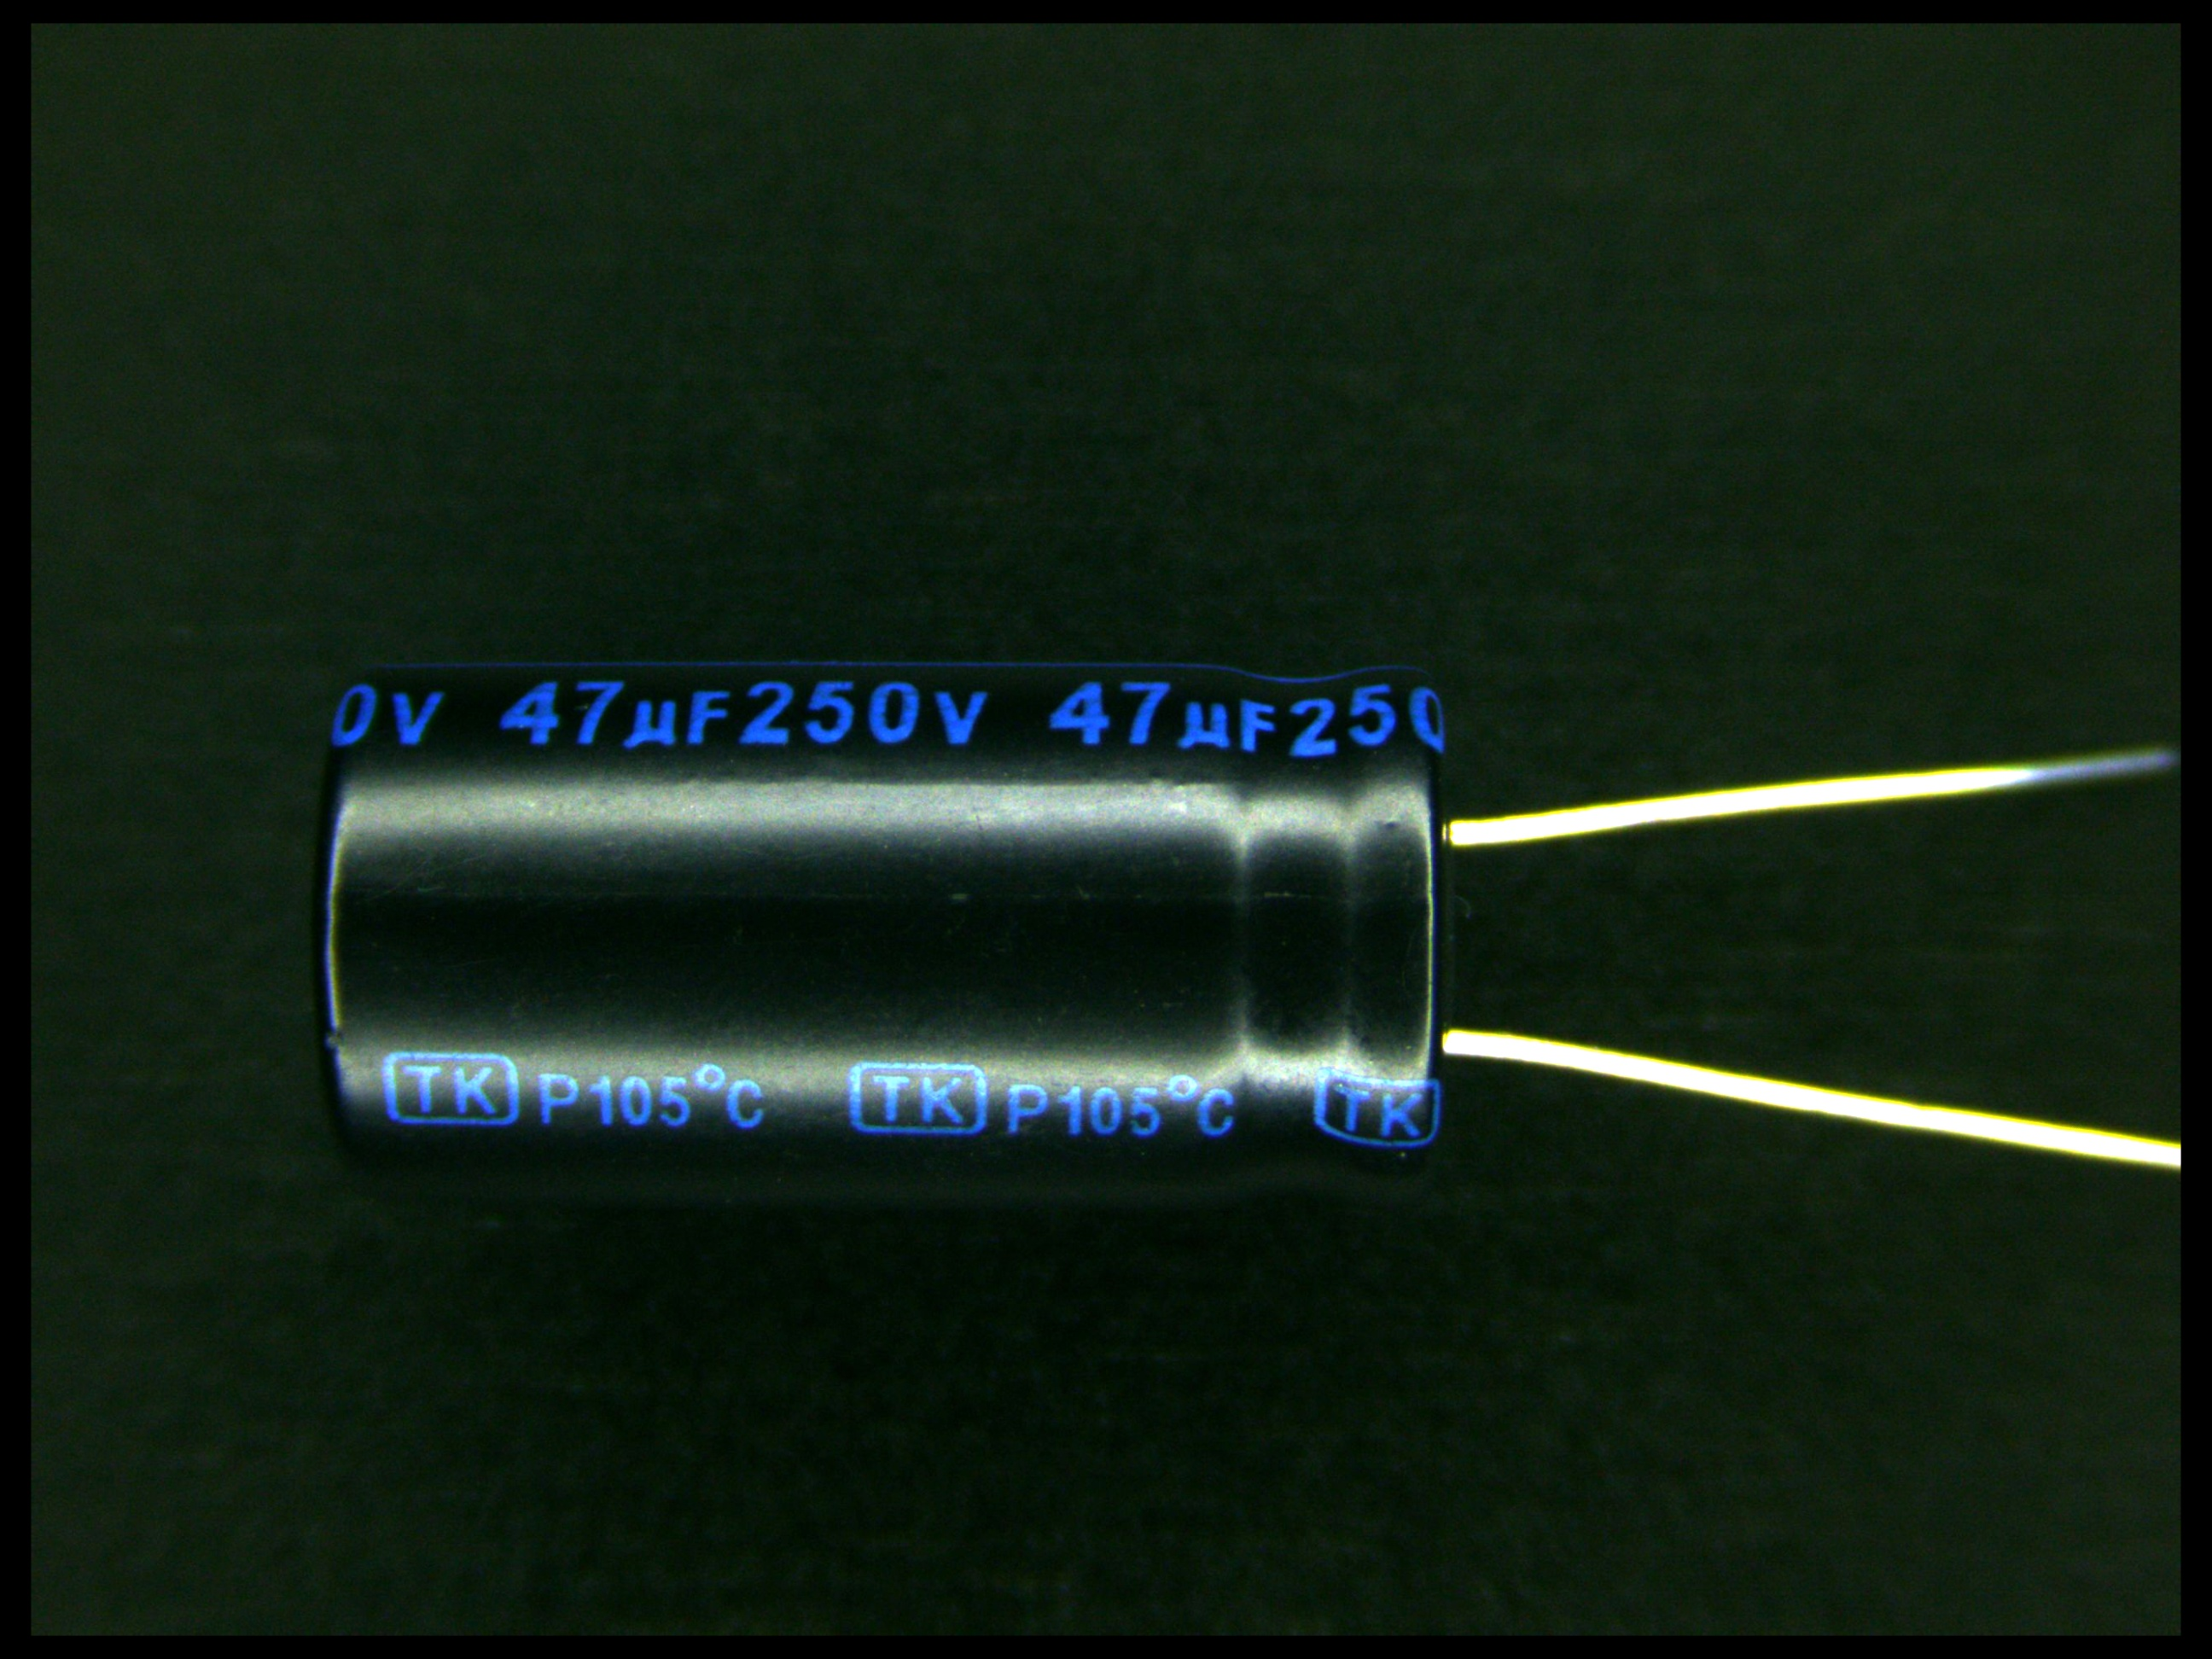c2: (303, 659, 1616, 1199)
